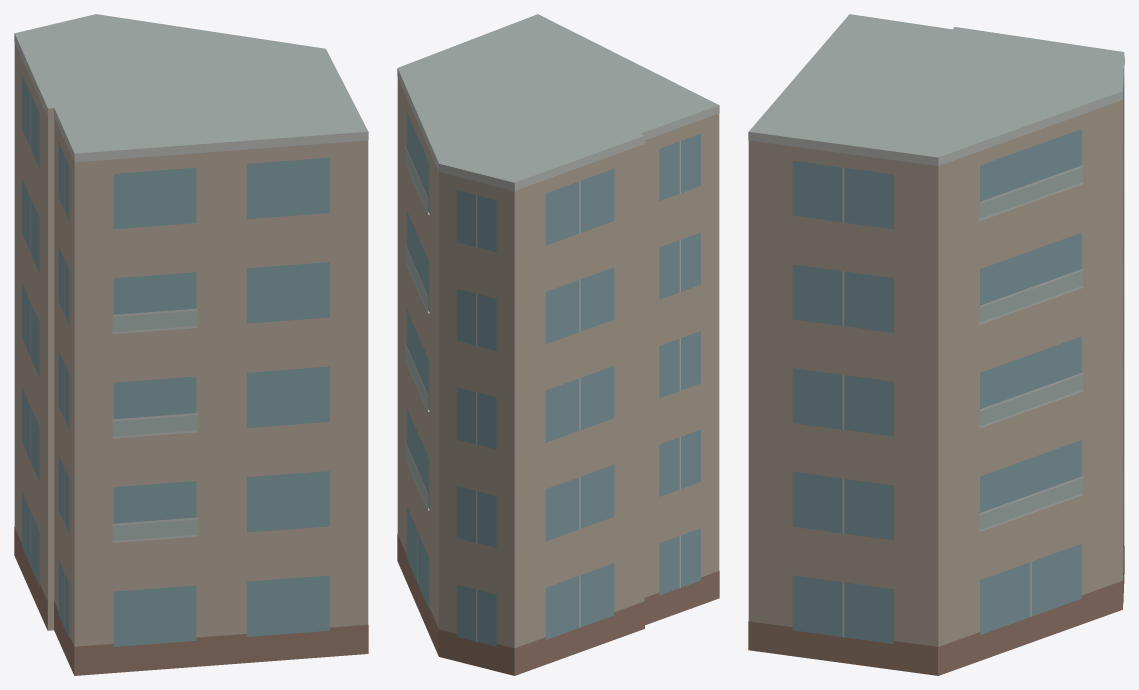
Rendered from survey-upis-32716606.glb.
3 renders of one model, left to right at view 1: azimuth 30°, elevation 25°; view 2: azimuth 150°, elevation 25°; view 3: azimuth 270°, elevation 25°, orthographic. The views are drawn at different scales.
Parts seen in each view (by area): view 1: survey-upis-32716606.tmp; view 2: survey-upis-32716606.tmp; view 3: survey-upis-32716606.tmp.
Boxes of the visible parts, <box> form: survey-upis-32716606.tmp: <box>14,14,368,675</box>; survey-upis-32716606.tmp: <box>397,14,719,675</box>; survey-upis-32716606.tmp: <box>748,14,1124,675</box>.
Size of the model in its own units: 8.68 by 14.6 by 9.61.
